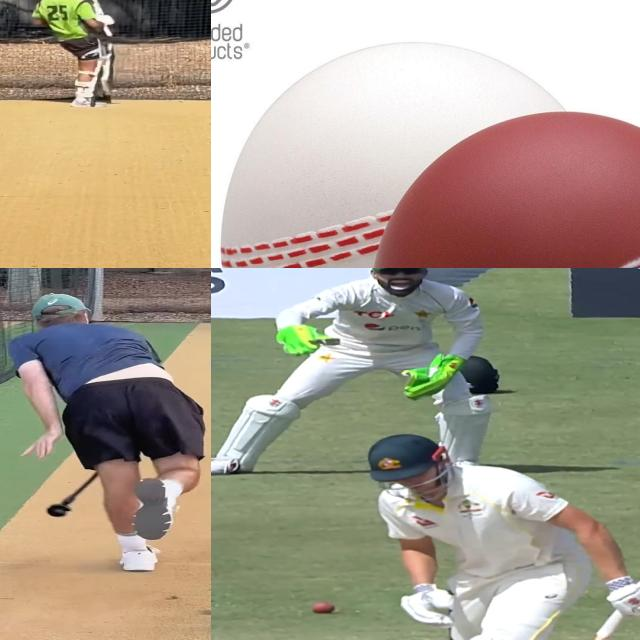Cricket ball: (363, 105, 640, 268), (311, 600, 336, 615)
